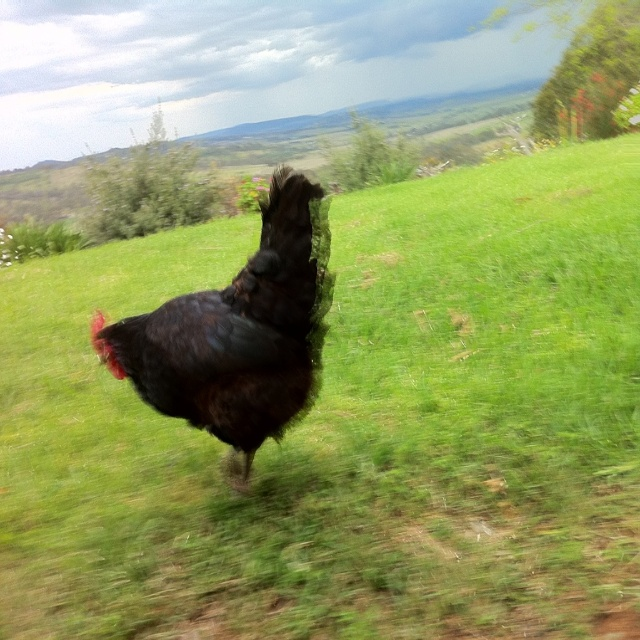Chicken: (90, 161, 334, 489)
